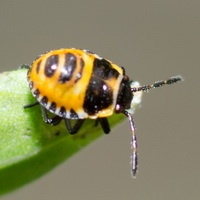insect: (24, 48, 136, 175)
